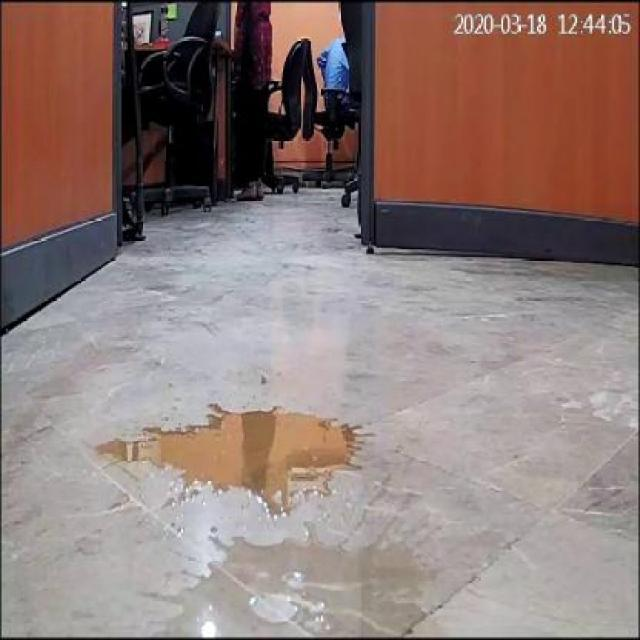spill: (151, 518, 427, 637), (95, 394, 377, 508)
